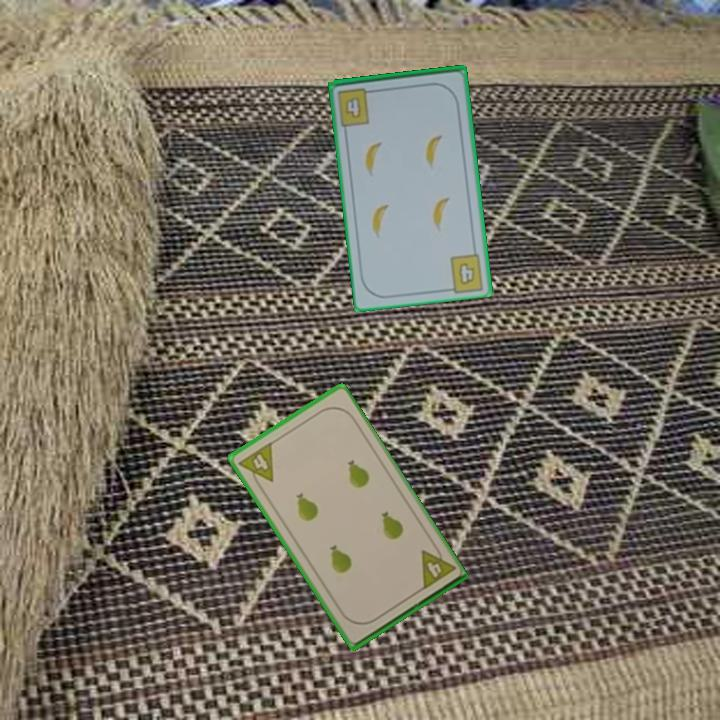4b: (334, 84, 378, 129), (455, 260, 478, 288)
4p: (235, 438, 277, 492), (417, 540, 457, 593)
